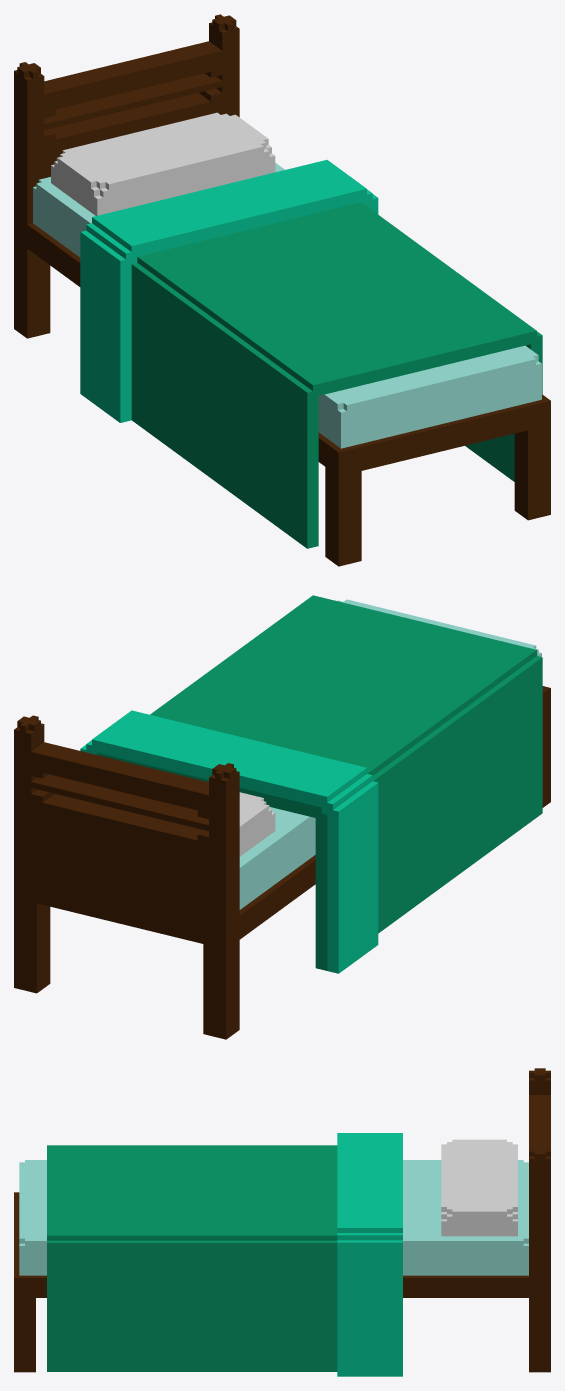
Rendered from cama.obj.
3 renders of one model, top to bottom at view 1: azimuth 30°, elevation 25°; view 2: azimuth 150°, elevation 25°; view 3: azimuth 270°, elevation 25°, orthographic. The views are drawn at different scales.
Size of the model in its own units: 4.5 by 4.4 by 9.8.
Materials: 1 (1 with a texture image).
